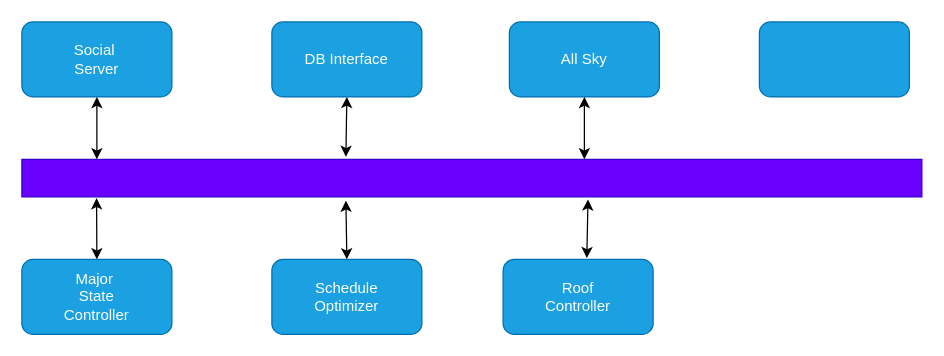
Image size: 944x356. Some labels were removed from this diagram. Here are the shapes that lost their labels. From the top down, the centre of each, then its label:
At point 833,59: "Hardware Interface".
At point 471,177: "MQTT Broker".
